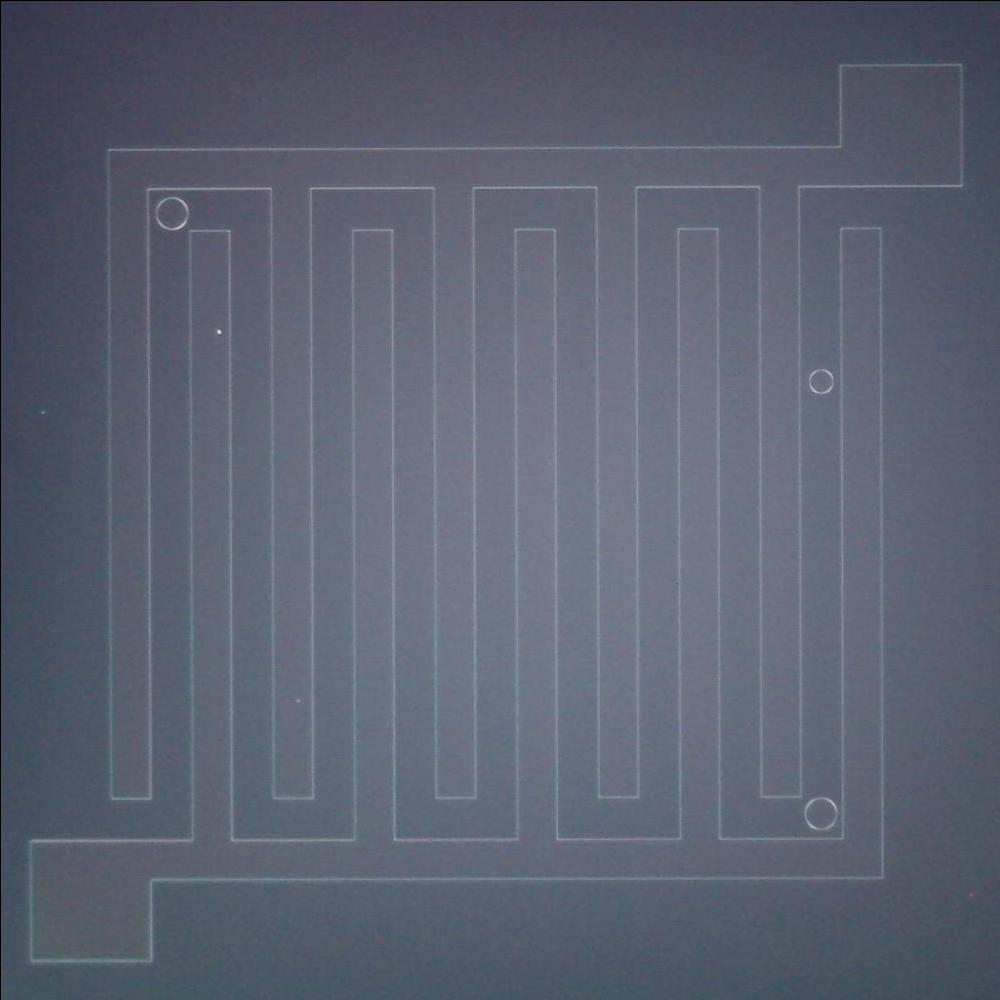circle: (147, 188, 190, 231), (798, 792, 839, 835), (805, 366, 837, 394)
dot: (204, 318, 228, 346)
